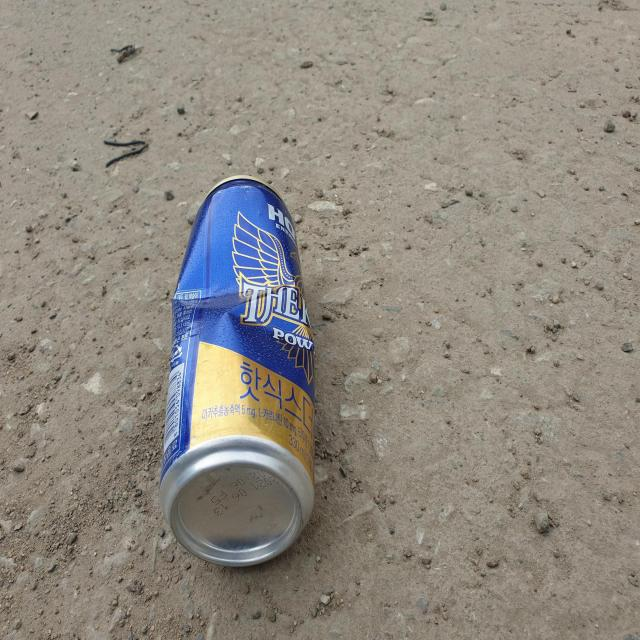can: (159, 175, 314, 566)
